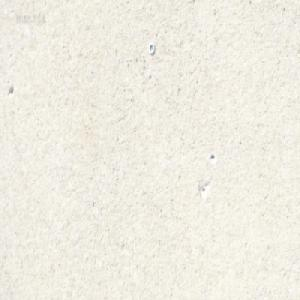Washer: (148, 42, 154, 54)
